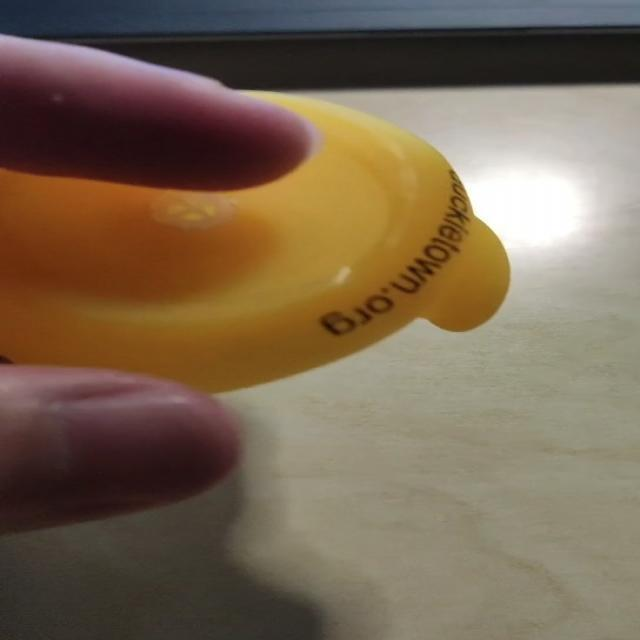rubber-duck: (0, 92, 507, 390)
